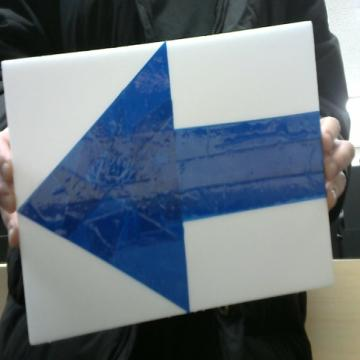blue_left: (19, 44, 325, 310)
